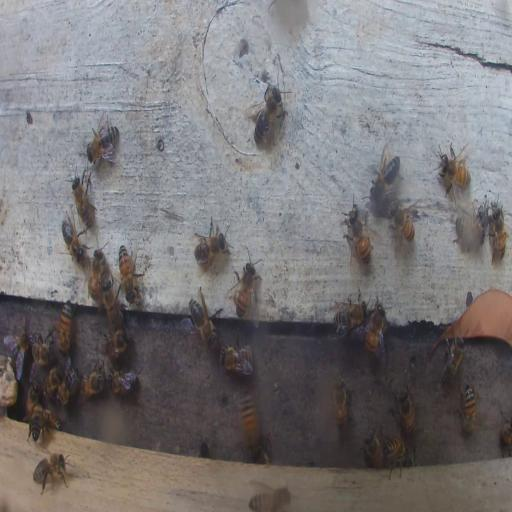bee: (248, 80, 286, 148), (192, 215, 235, 270), (230, 249, 261, 322), (342, 192, 372, 262), (368, 145, 401, 208), (185, 288, 219, 347), (86, 113, 120, 169), (437, 139, 470, 193), (33, 453, 69, 494), (332, 295, 369, 334), (388, 199, 418, 245), (71, 170, 94, 229), (364, 302, 388, 358), (238, 390, 260, 451), (220, 340, 255, 378), (61, 214, 87, 265), (454, 214, 486, 254), (383, 434, 412, 478), (394, 384, 416, 438), (488, 201, 507, 263), (440, 338, 464, 384), (28, 407, 59, 442), (332, 374, 351, 431), (54, 300, 73, 352), (118, 243, 136, 297), (106, 367, 140, 395), (101, 280, 122, 325), (459, 383, 477, 435), (88, 248, 105, 300), (362, 424, 382, 468), (13, 324, 31, 371), (103, 328, 128, 360), (80, 368, 104, 400), (44, 363, 65, 399), (32, 337, 56, 367), (60, 363, 78, 400), (500, 410, 512, 452), (26, 382, 40, 416), (254, 440, 270, 463)
